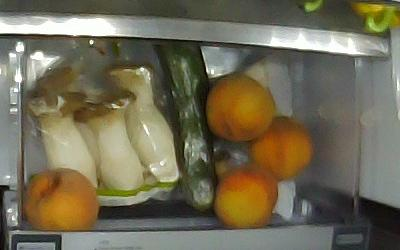peach: (206, 74, 275, 142), (24, 168, 98, 228), (213, 166, 279, 229), (248, 117, 314, 180)
